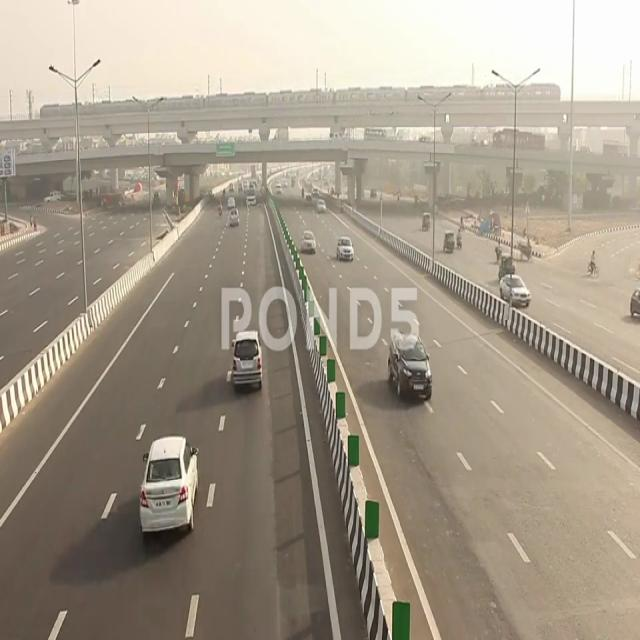car: (138, 425, 200, 552), (386, 331, 434, 411), (230, 322, 263, 400)
